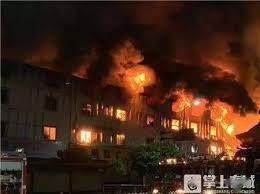fire: (165, 91, 242, 158), (126, 70, 147, 89), (74, 125, 94, 143)
